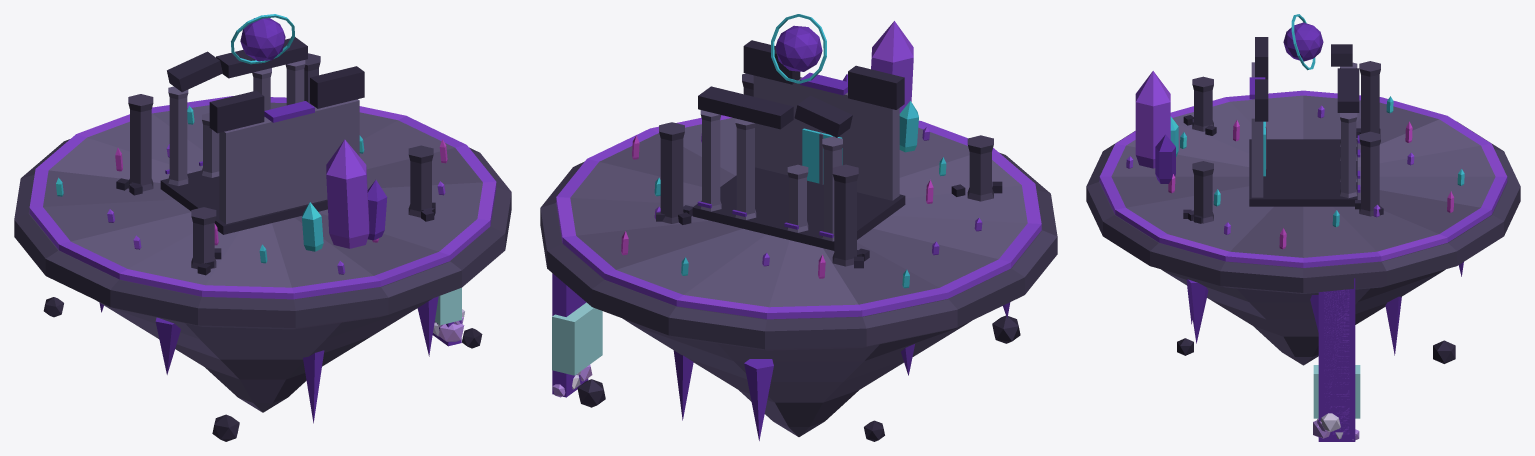
The model's file is Decor_VoidPortal_Island.fbx.
The picture shows the model from 3 angles, left to right: view 1: azimuth 30°, elevation 25°; view 2: azimuth 150°, elevation 25°; view 3: azimuth 270°, elevation 25°; orthographic projection. The views are drawn at different scales.
Parts seen in each view (by area): view 1: Island_Body; view 2: Island_Body; view 3: Island_Body.
Part boxes in pixels (bbox=[...]): Island_Body: bbox=[14, 14, 511, 441]; Island_Body: bbox=[540, 14, 1057, 441]; Island_Body: bbox=[1086, 14, 1520, 441].
Size of the model in its own units: 52 by 46 by 52.
